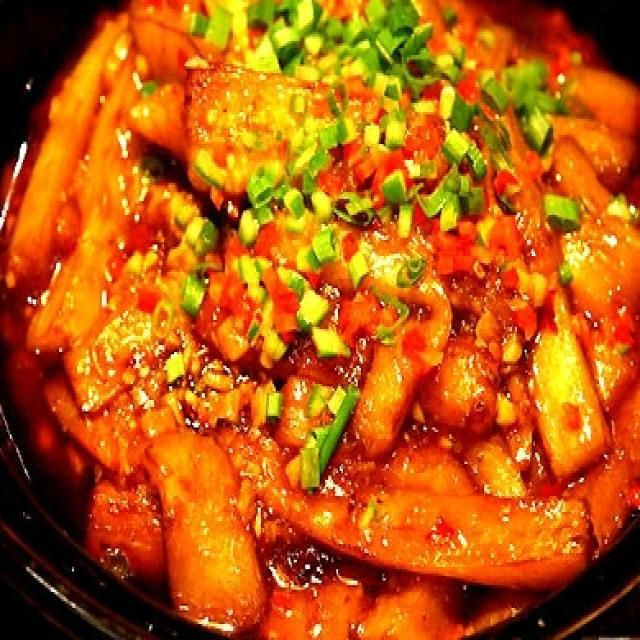鸡蛋料理: (13, 9, 632, 624)
